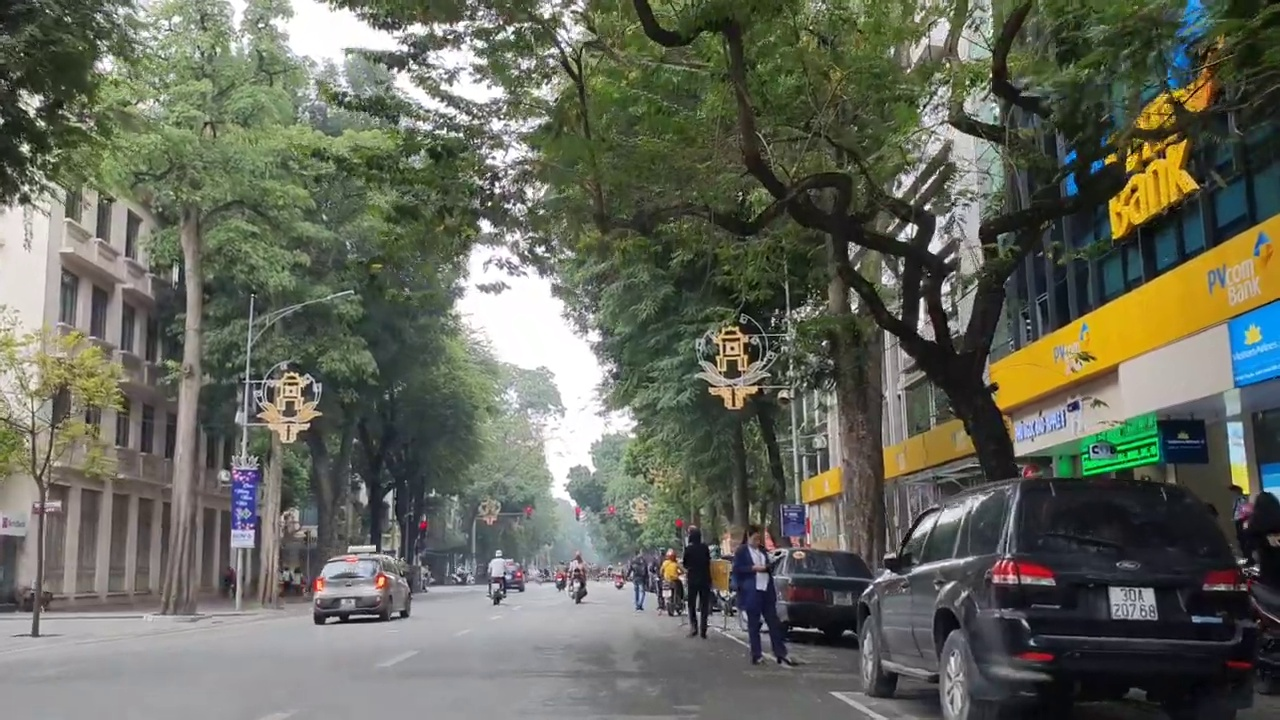person: (830, 588, 854, 608), (337, 597, 356, 610)
